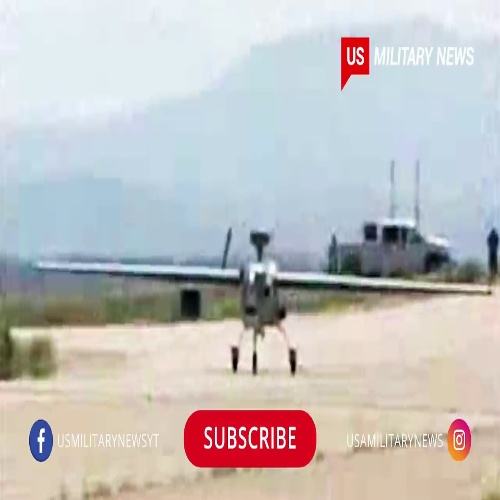uav372: (29, 228, 491, 376)
